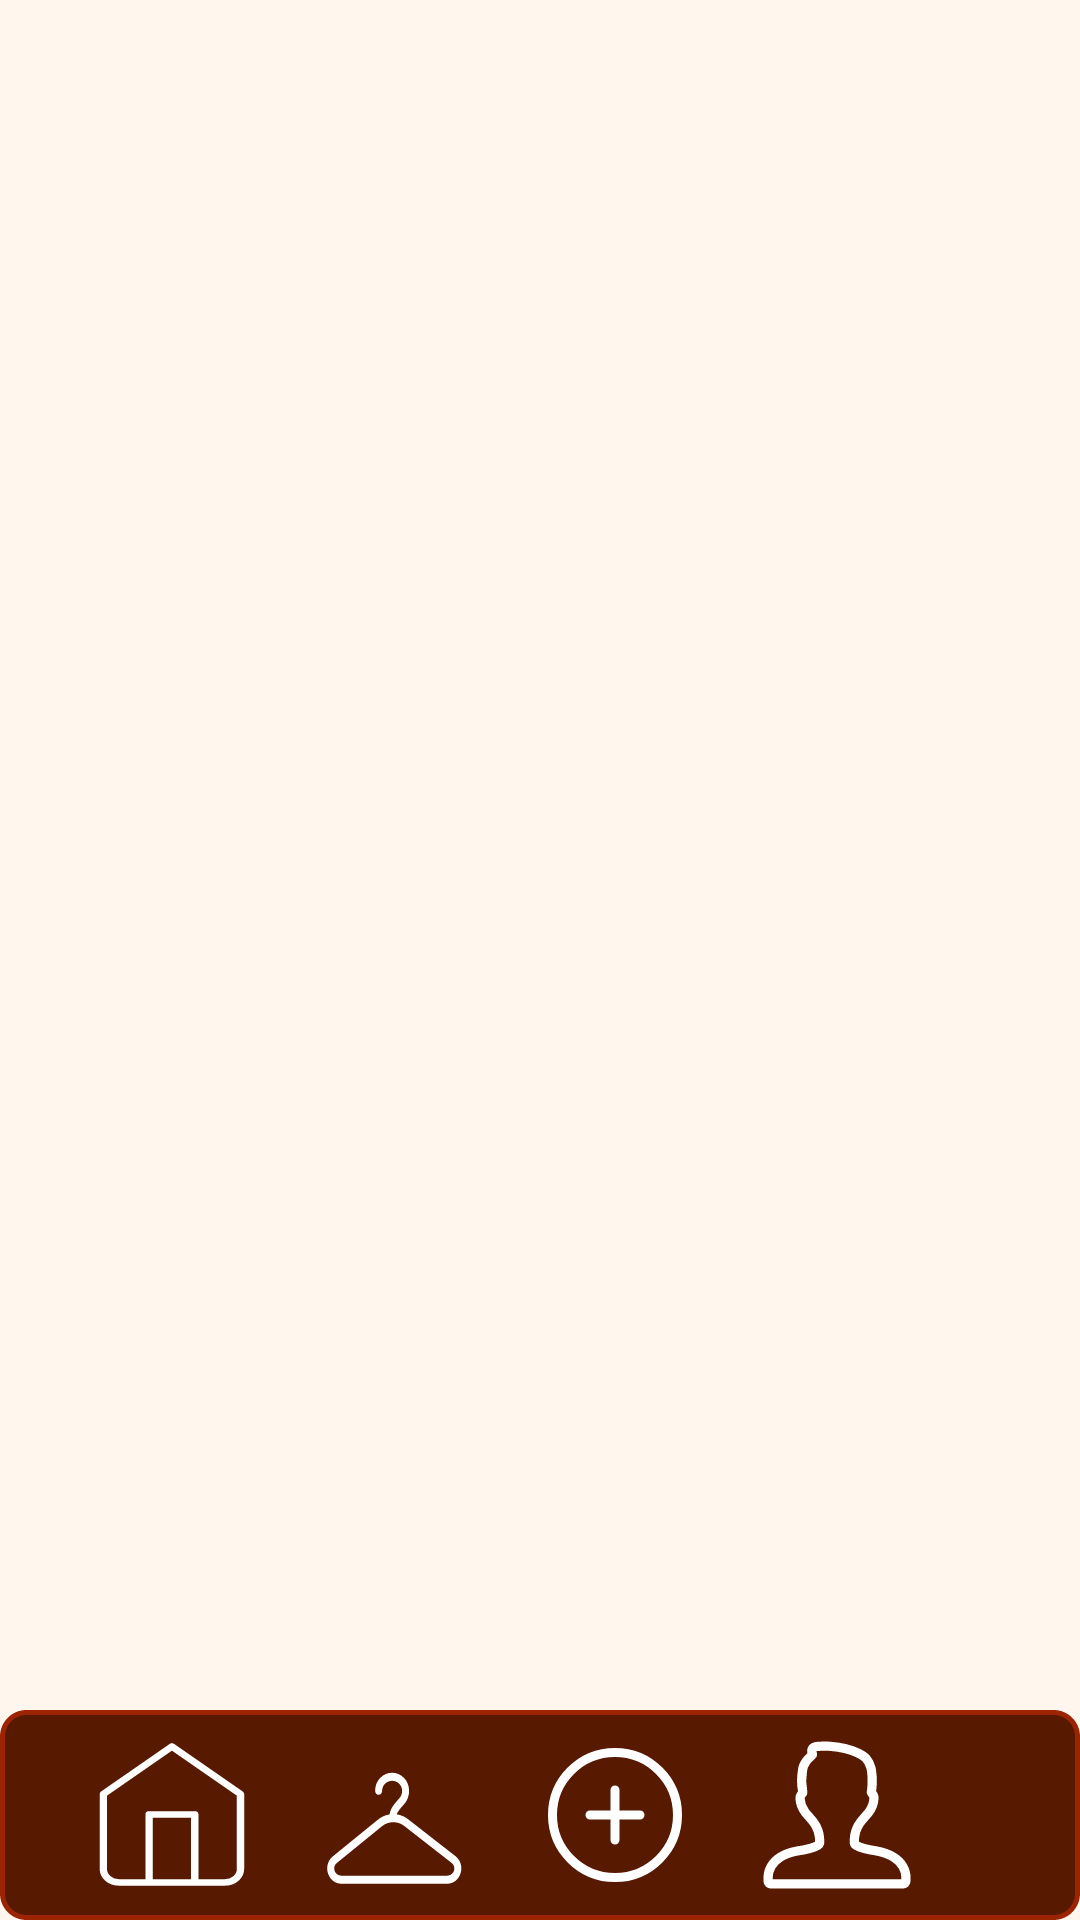

Icons on this 1080x1920 Android screen, each with its box as box=[x1, y1, x2, y2]:
home: box=[99, 1743, 245, 1886]
plus circle: box=[548, 1748, 682, 1882]
wardrobe: box=[327, 1772, 462, 1884]
